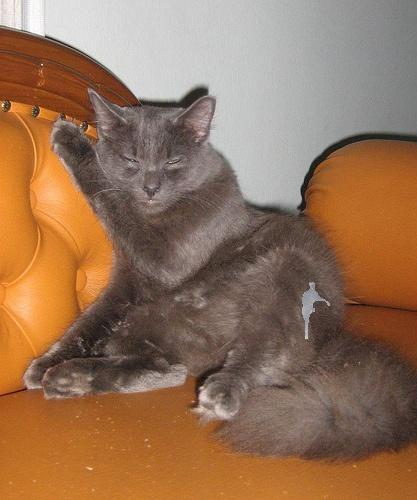tampered: (303, 283, 330, 339)
